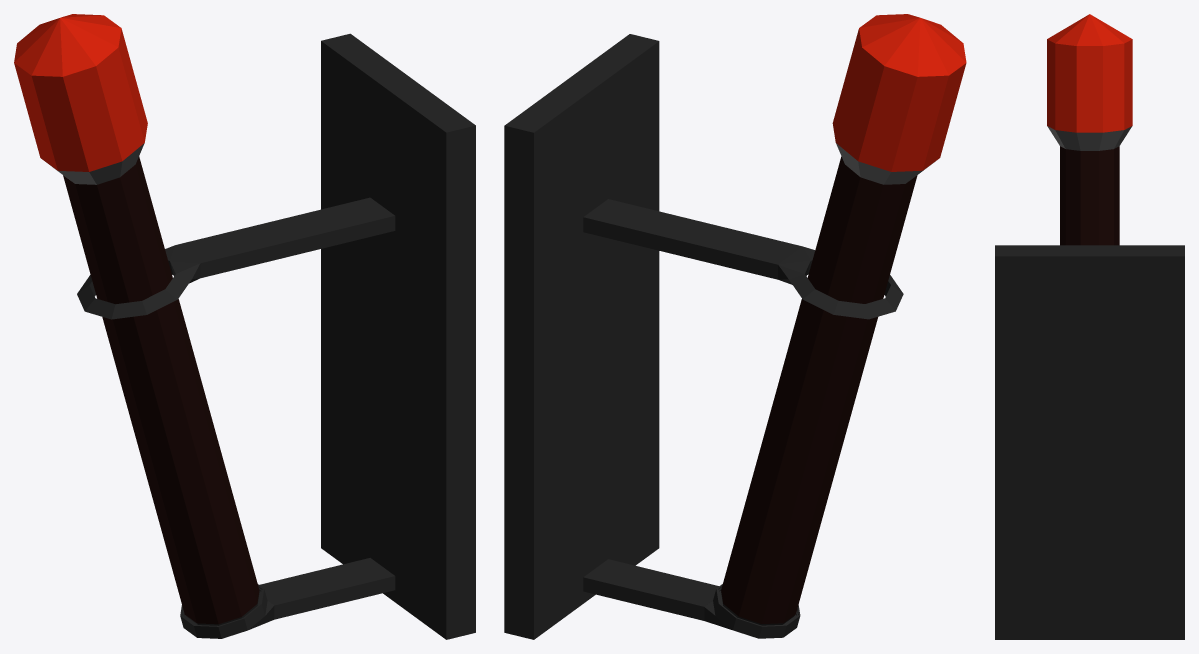
File: fakel 1(Maze-rush).fbx
The picture shows the model from 3 angles, left to right: view 1: azimuth 30°, elevation 25°; view 2: azimuth 150°, elevation 25°; view 3: azimuth 270°, elevation 25°; orthographic projection. The views are drawn at different scales.
Visible parts, largest first — view 1: Cube; view 2: Cube; view 3: Cube.
Boxes of the visible parts, <box> form: Cube: <box>14,14,475,639</box>; Cube: <box>504,14,966,639</box>; Cube: <box>995,14,1184,639</box>.
Size of the model in its own units: 0.3482 by 0.5584 by 0.1938.
